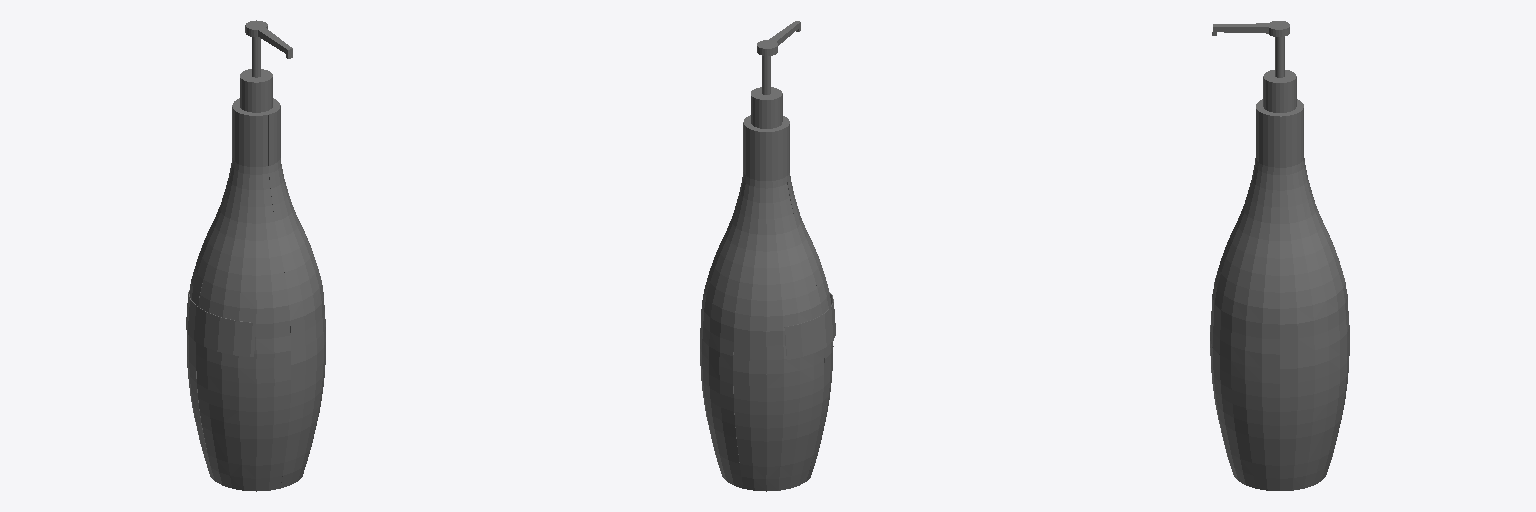
The robot description file, URDF, robot "object":
<?xml version="1.0"?>
<robot name="object">
  <link name="object">
    <visual>
      <origin xyz="0 0 0"/>
      <geometry>
        <mesh
          filename="../../mesh/oakink_virtual/lotion_pump_s108.stl" />
      </geometry>
      <material name="mat">
        <color rgba="0.5 0.5 0.5 1"/>
      </material>
    </visual>

    <collision>
      <origin xyz="0 0 0"/>
      <geometry>
        <mesh
          filename="../../mesh/oakink_virtual/lotion_pump_s108.stl" />
      </geometry>
    </collision>
  </link>
</robot>

--- What the picture shows (computed from the rendered views, not written in the file) ---
Views: 3 orthographic renders of the robot side by side, from view 1: azimuth 30°, elevation 25°; view 2: azimuth 150°, elevation 25°; view 3: azimuth 270°, elevation 25°.
Model object with 1 links and 0 joints (none), rooted at object, posed all joints at 0.
Links seen in each view (by area): view 1: object; view 2: object; view 3: object.
Link boxes in pixels (x1=…): object: x1=186, y1=20, x2=325, y2=491; object: x1=700, y1=21, x2=835, y2=491; object: x1=1210, y1=21, x2=1349, y2=490.
Bounding box of the posed robot: 0.0646 × 0.0634 × 0.2234 m (x, y, z).
1 mesh visuals loaded from 1 distinct referenced files (1 binary STL).